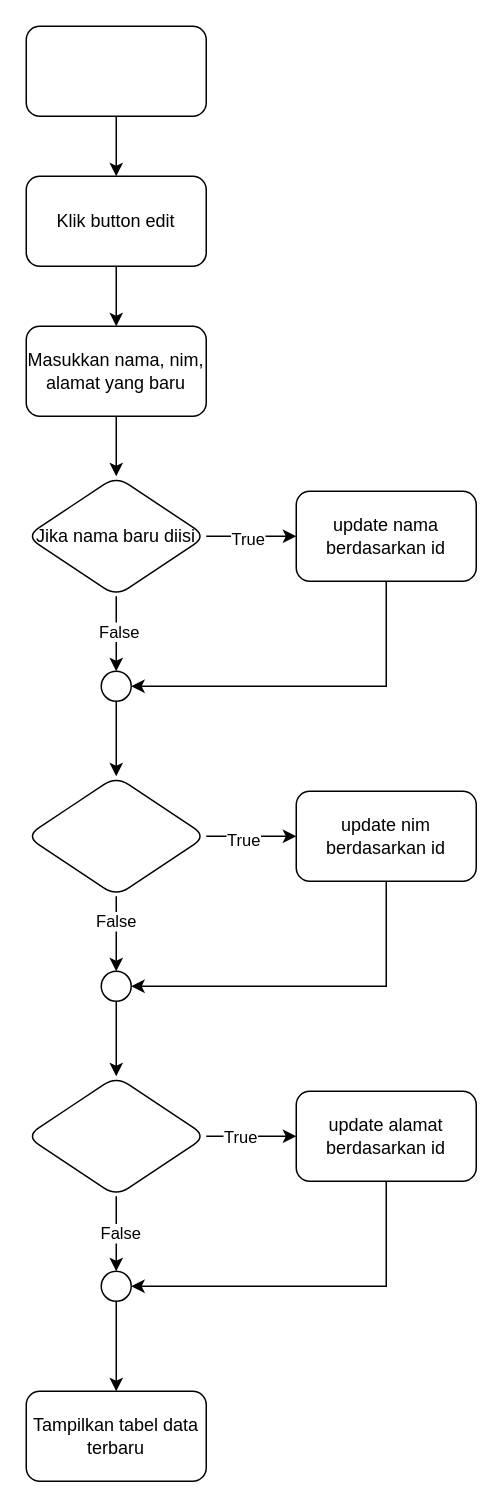
The diagram is 503 pixels wide and 1508 high, and some of its shapes have lost their labels. Each missing label, with the centre of its shape:
"Jika alamat baru diiisi" belongs at pixel 115 1135.
"Jika nim baru diiisi" belongs at pixel 115 835.
"Klik salah satu row pada tabel yang ingin di edit" belongs at pixel 115 70.
